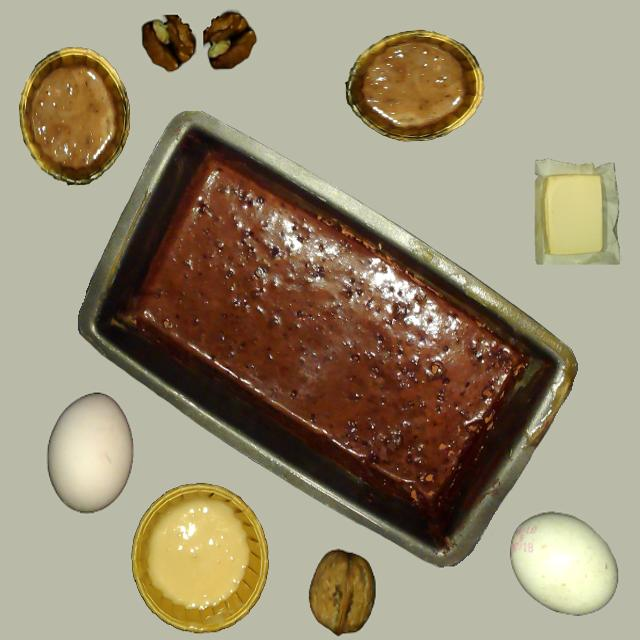Walnut: (308, 550, 376, 634)
